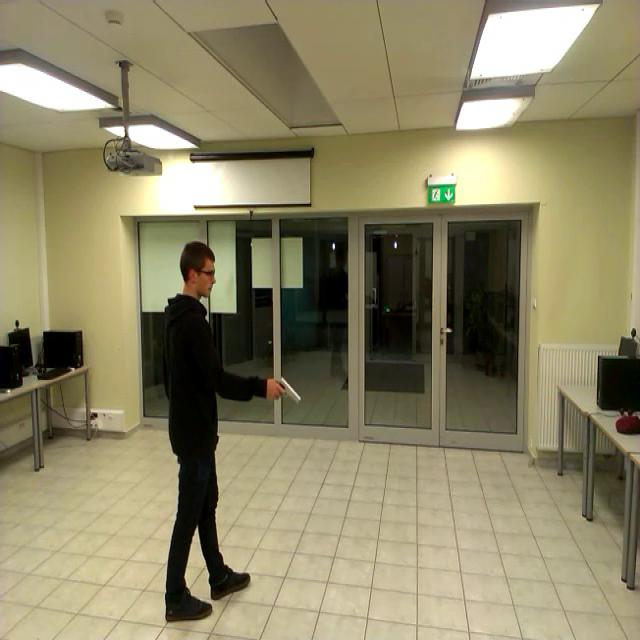handgun: (274, 370, 306, 411)
